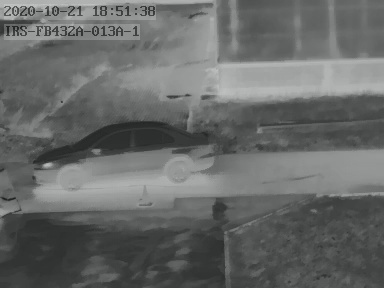vehicle: (32, 120, 216, 190)
